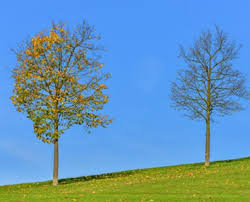tree: (7, 15, 115, 186), (167, 22, 250, 167)
